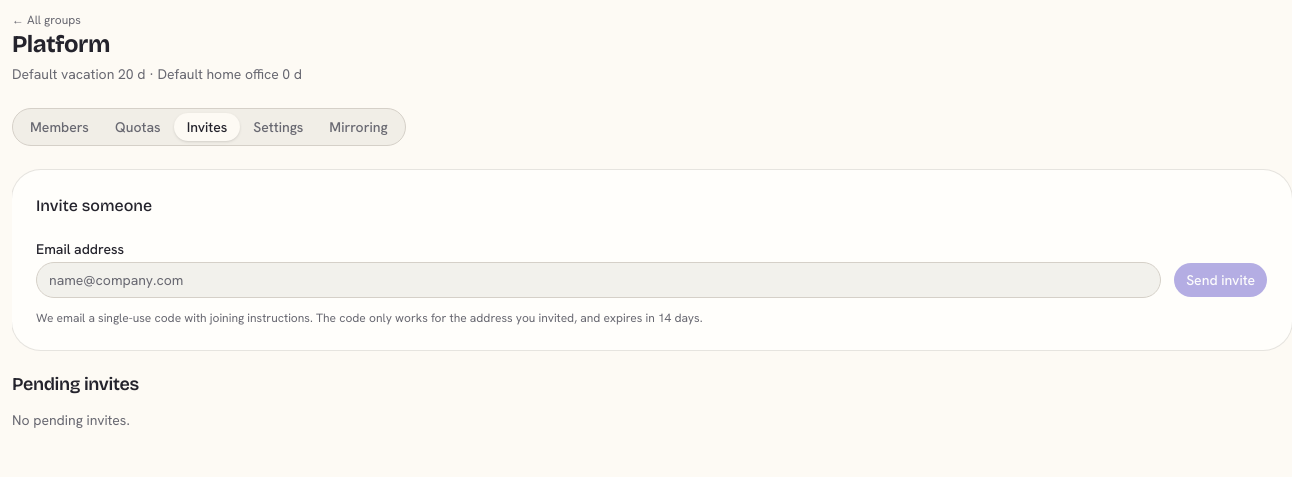
Test: GroupDetailPage invites tab › tells the admin to share the code when the email could not be sent
Type "sam@northwind.co" into the field labelled "Email address" at (599, 280), box [36,262,1161,298]
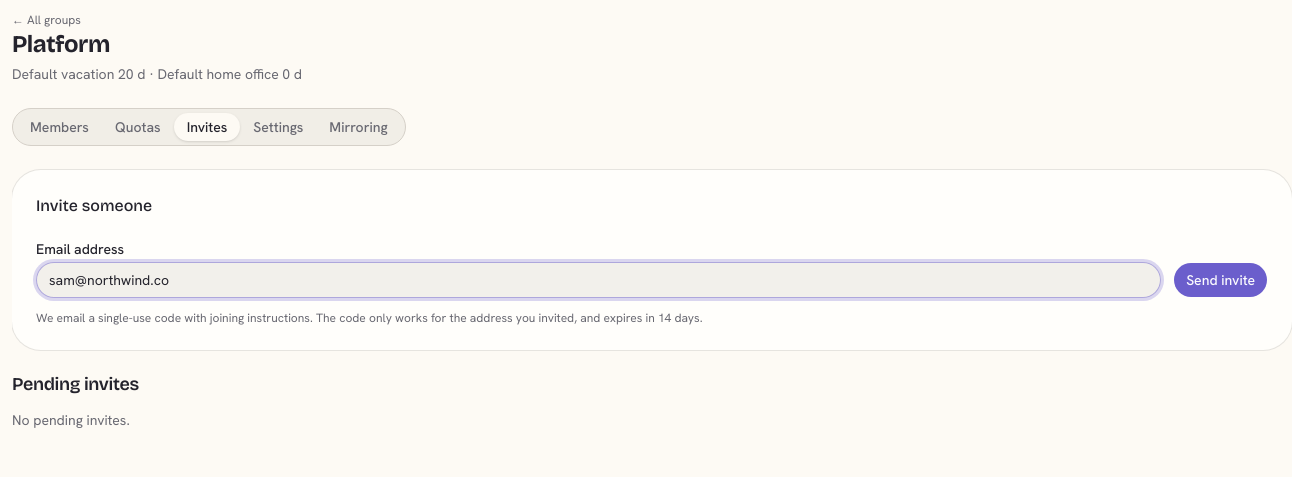
Click the button "Send invite" at (1221, 280), box [1173,262,1268,298]
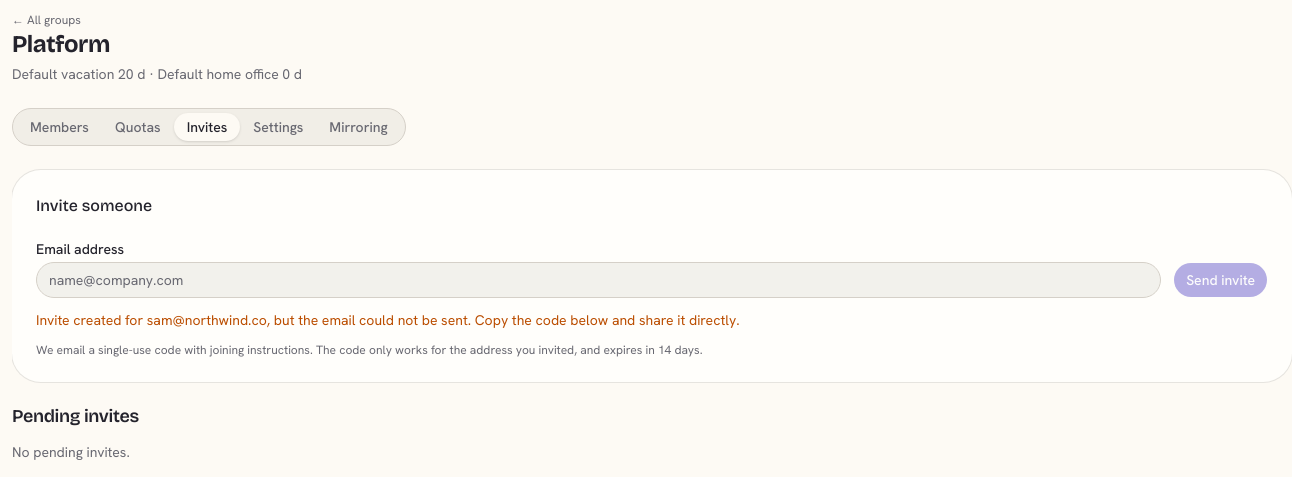
Now the text "the email could not be sent" is shown, box [36,311,740,329]
